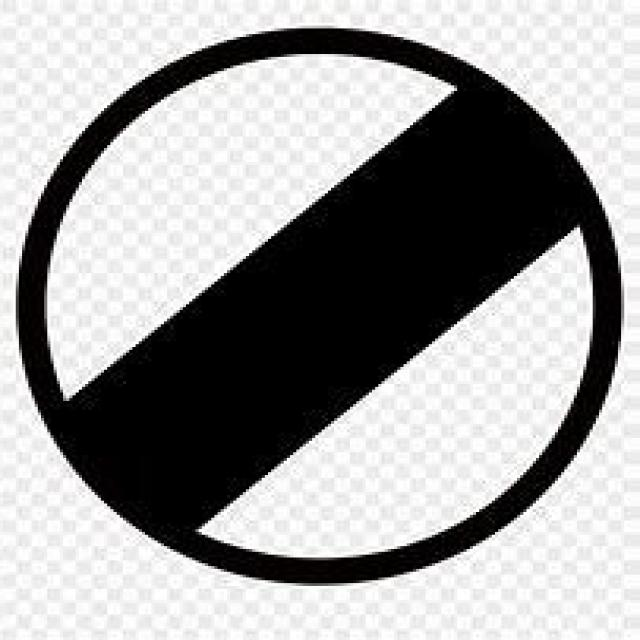RESTRICTION_ENDS: (18, 29, 622, 584)
